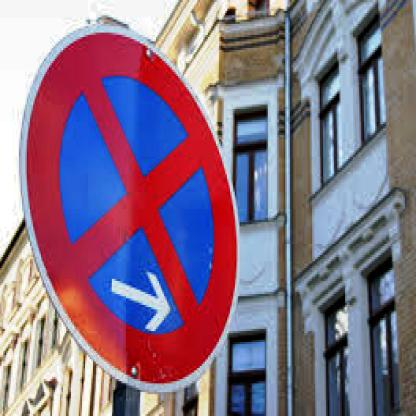No stopping: (20, 17, 245, 407)
